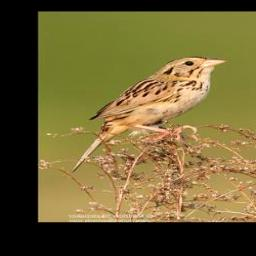Sparrow: (71, 56, 228, 173)
